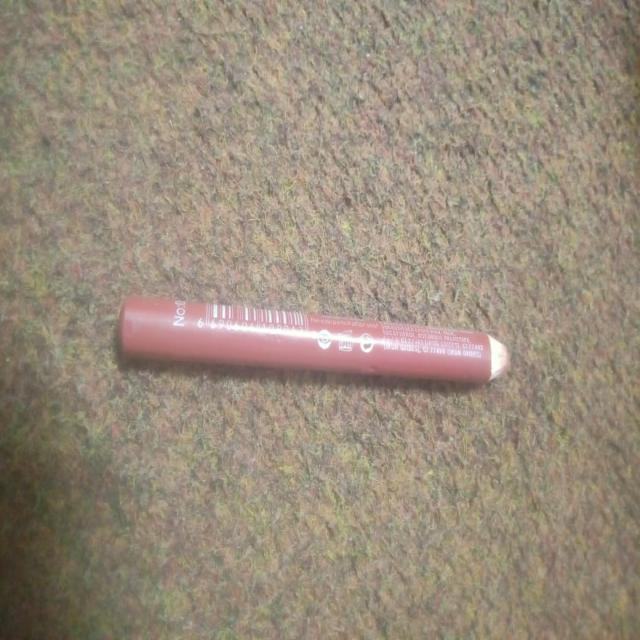lip liner: (93, 255, 517, 430)
